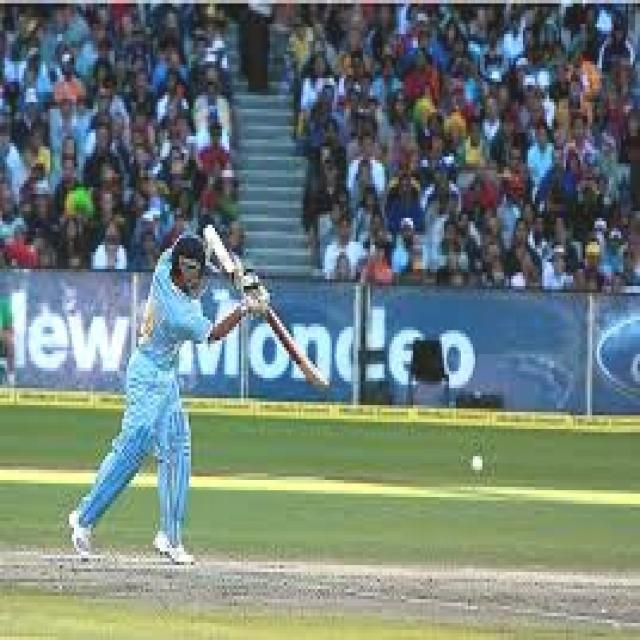bat: (261, 304, 355, 415)
toe: (308, 376, 342, 393)
